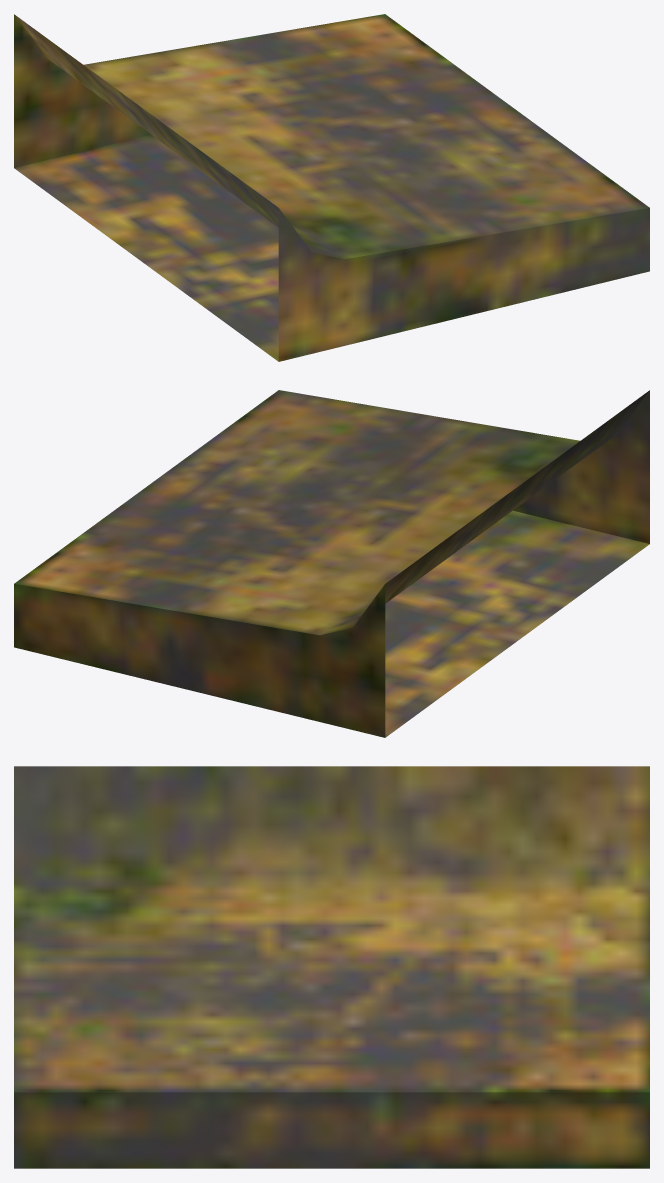
The model's file is WindowTop_S.FBX.
The picture shows the model from 3 angles, top to bottom: view 1: azimuth 30°, elevation 25°; view 2: azimuth 150°, elevation 25°; view 3: azimuth 270°, elevation 25°; orthographic projection. The views are drawn at different scales.
Parts seen in each view (by area): view 1: WindowTop_S; view 2: WindowTop_S; view 3: WindowTop_S.
Part boxes in pixels (x1=…): WindowTop_S: x1=14, y1=14, x2=649, y2=361; WindowTop_S: x1=14, y1=390, x2=649, y2=737; WindowTop_S: x1=14, y1=766, x2=649, y2=1168.
Size of the model in its own units: 80.93 by 32.1 by 100.
